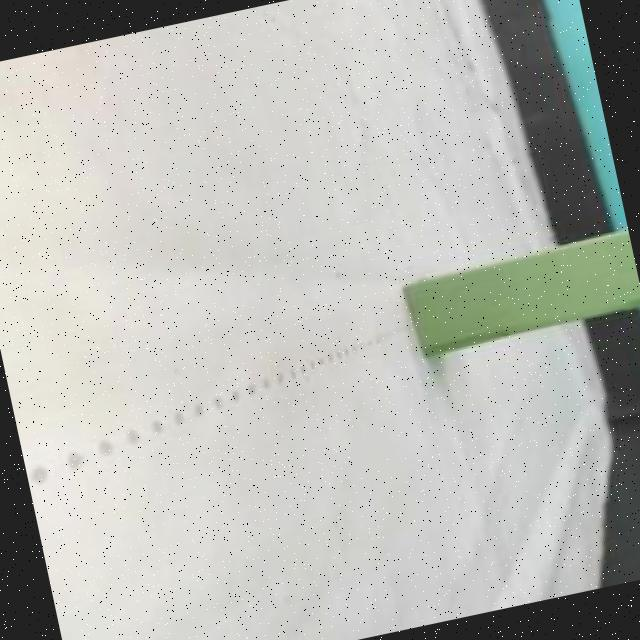greenbox: (401, 230, 640, 360)
